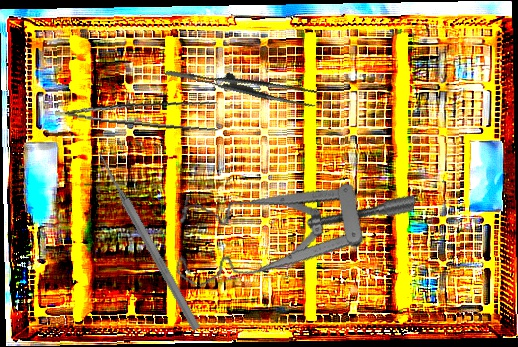Pusher: (93, 149, 203, 332)
Speculum: (167, 148, 417, 327)
Tissue Forceps: (164, 45, 321, 122), (54, 83, 223, 136)
